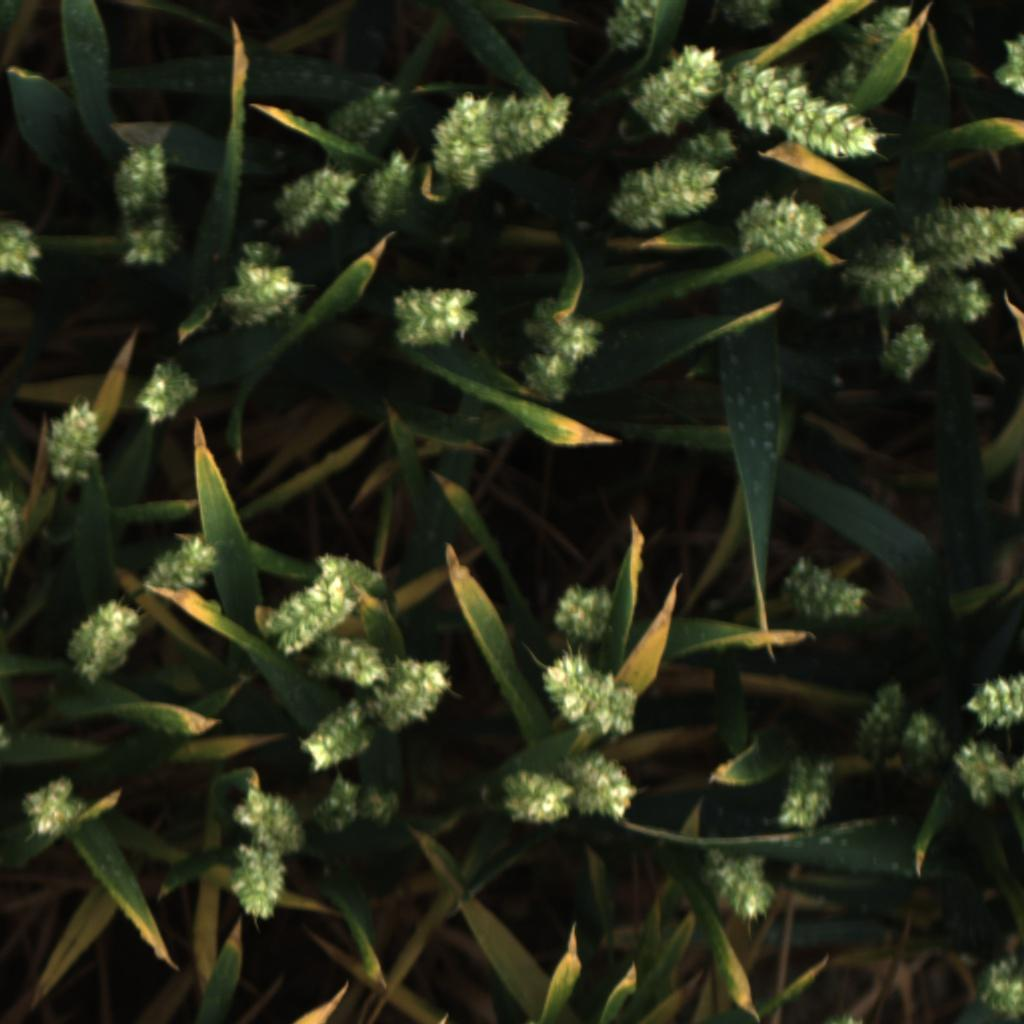0-0: (724, 57, 890, 162), (626, 42, 729, 144), (892, 196, 1024, 273), (537, 647, 643, 740), (251, 572, 358, 663), (432, 88, 512, 199), (608, 159, 721, 236), (58, 598, 149, 692), (384, 277, 487, 359), (825, 4, 921, 90), (363, 658, 459, 741), (779, 547, 874, 630), (272, 161, 367, 240), (307, 534, 396, 617), (39, 394, 112, 493), (733, 196, 837, 264), (697, 840, 784, 920), (835, 238, 933, 309), (489, 85, 580, 160), (222, 257, 303, 340), (104, 212, 201, 276), (218, 841, 290, 927), (773, 748, 840, 839), (908, 261, 995, 331), (298, 697, 376, 775), (99, 133, 177, 211), (638, 122, 744, 179), (523, 294, 609, 364), (132, 353, 210, 428), (562, 750, 643, 822), (235, 787, 313, 860), (495, 761, 574, 832), (944, 733, 1016, 810), (545, 576, 621, 648), (144, 532, 223, 601), (15, 772, 85, 849), (303, 766, 374, 841), (306, 631, 391, 692), (365, 144, 417, 238), (330, 77, 402, 144), (895, 703, 953, 786), (850, 672, 900, 766), (958, 666, 1024, 730), (0, 211, 52, 290), (873, 321, 938, 382), (602, 0, 667, 59), (518, 346, 579, 407), (976, 952, 1024, 1022), (352, 779, 405, 832), (0, 480, 31, 560), (995, 29, 1024, 108), (713, 0, 773, 37), (233, 239, 289, 273)
